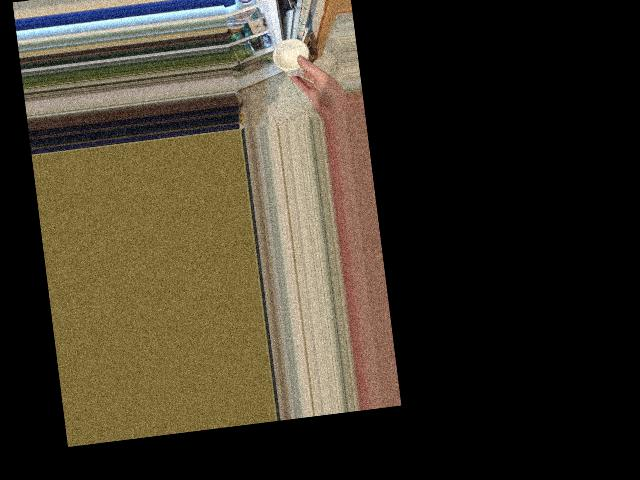cotage: (277, 35, 313, 78)
